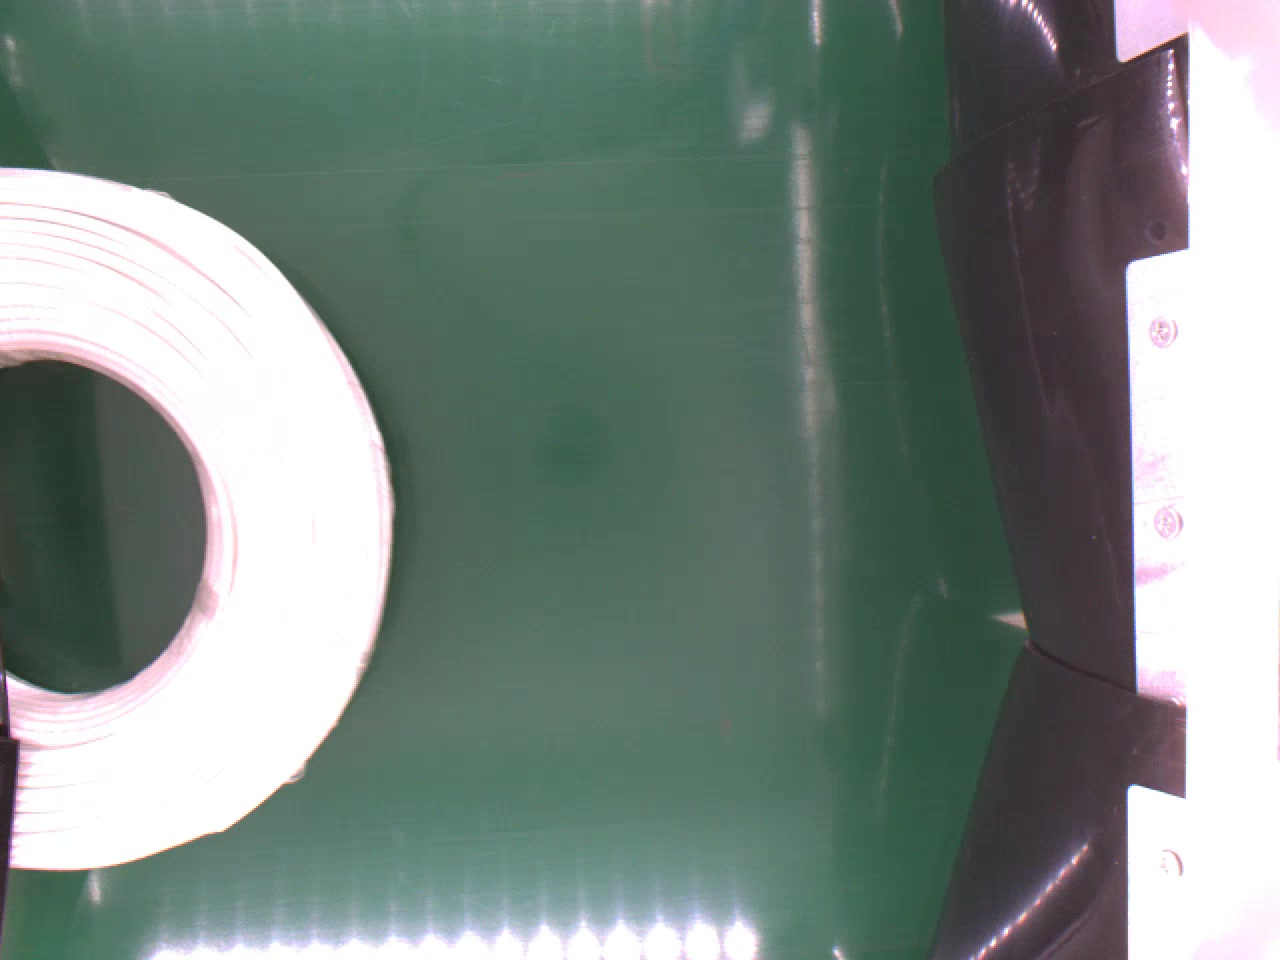white: (0, 162, 393, 874)
